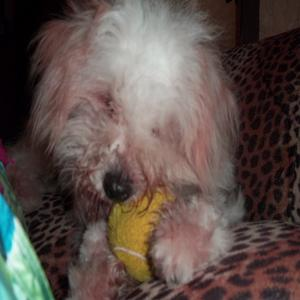TennisBall: (108, 188, 173, 284)
